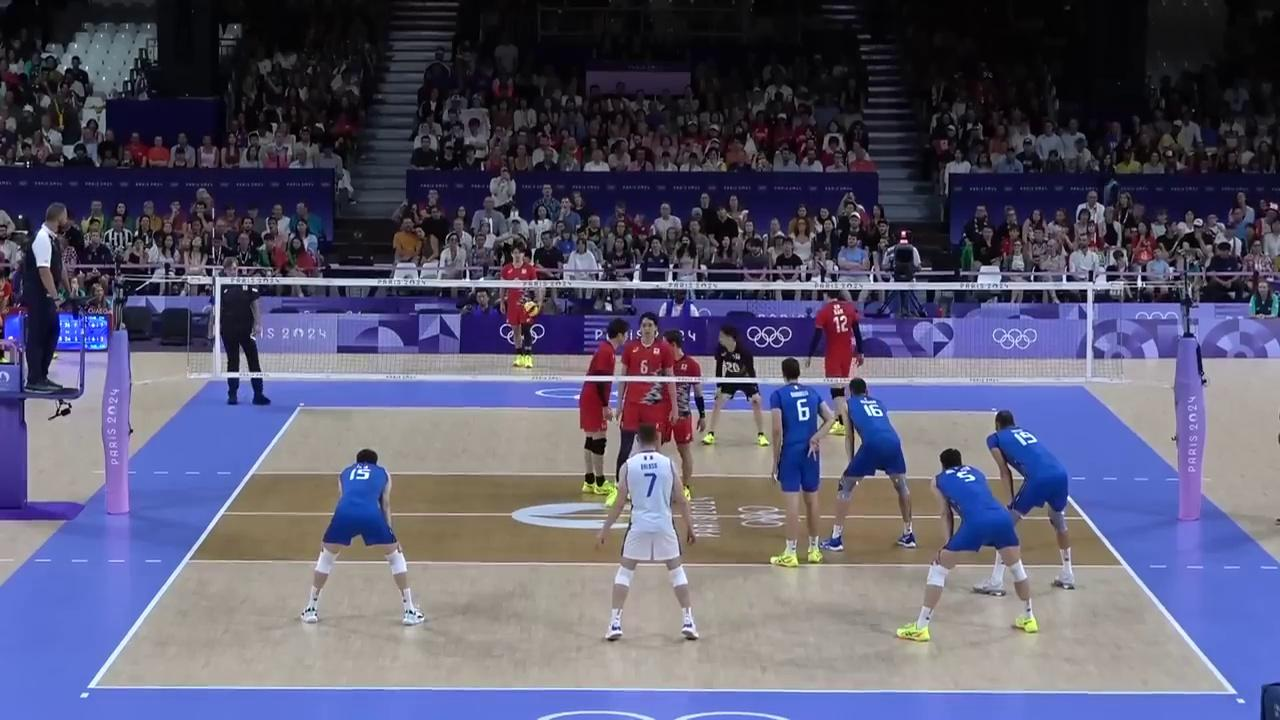ball: (526, 301, 538, 317)
